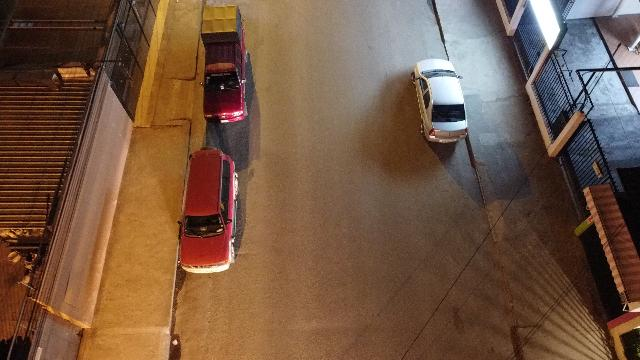Vehiculo: (178, 146, 238, 274), (200, 5, 248, 123), (410, 58, 468, 144)
